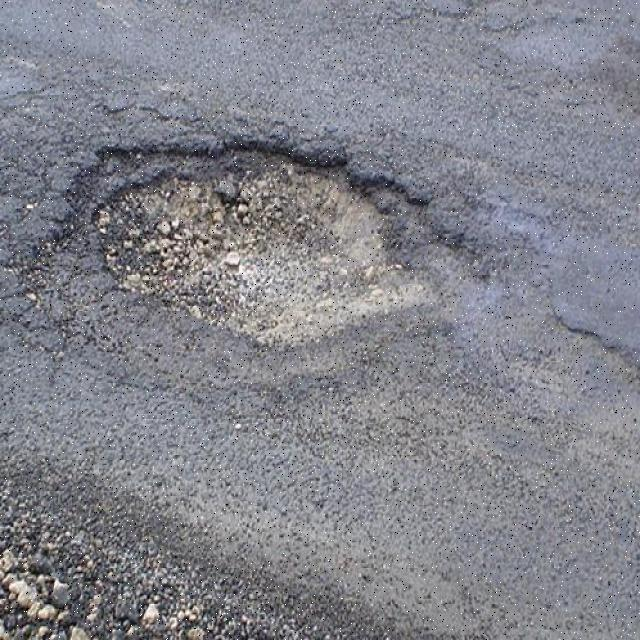pothole: (90, 148, 640, 385)
